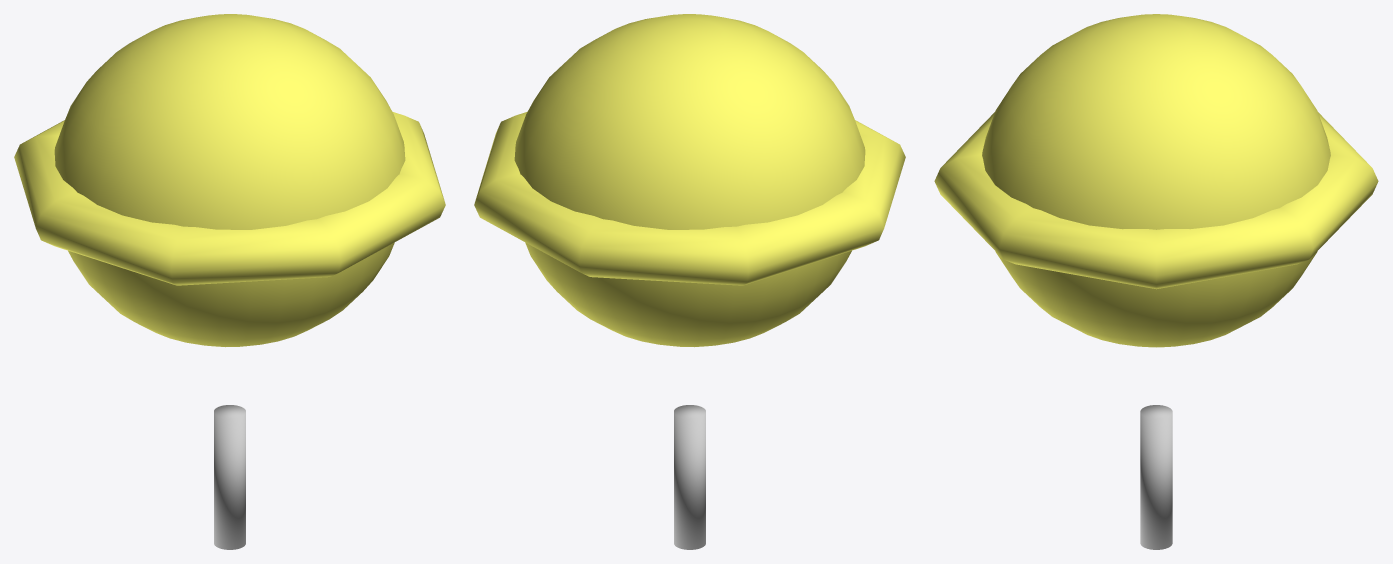
Rendered from yellowball.fbx.
3 renders of one model, left to right at view 1: azimuth 30°, elevation 25°; view 2: azimuth 150°, elevation 25°; view 3: azimuth 270°, elevation 25°, orthographic.
Visible parts, largest first — view 1: Sphere, Cylinder; view 2: Sphere, Cylinder; view 3: Sphere, Cylinder.
Boxes of the visible parts, x1=… form: Sphere: x1=14, y1=14, x2=445, y2=347; Cylinder: x1=214, y1=405, x2=245, y2=549; Sphere: x1=474, y1=14, x2=905, y2=347; Cylinder: x1=674, y1=405, x2=705, y2=549; Sphere: x1=934, y1=14, x2=1378, y2=347; Cylinder: x1=1140, y1=405, x2=1172, y2=549.
Size of the model in its own units: 874 by 1100 by 866.
